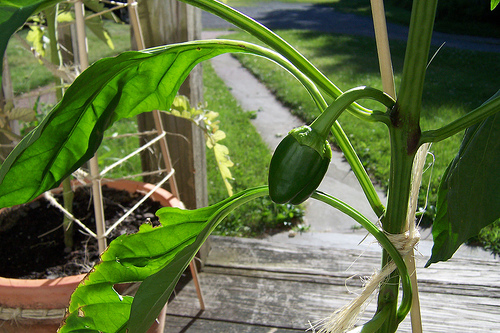capsicum: (266, 86, 393, 207)
